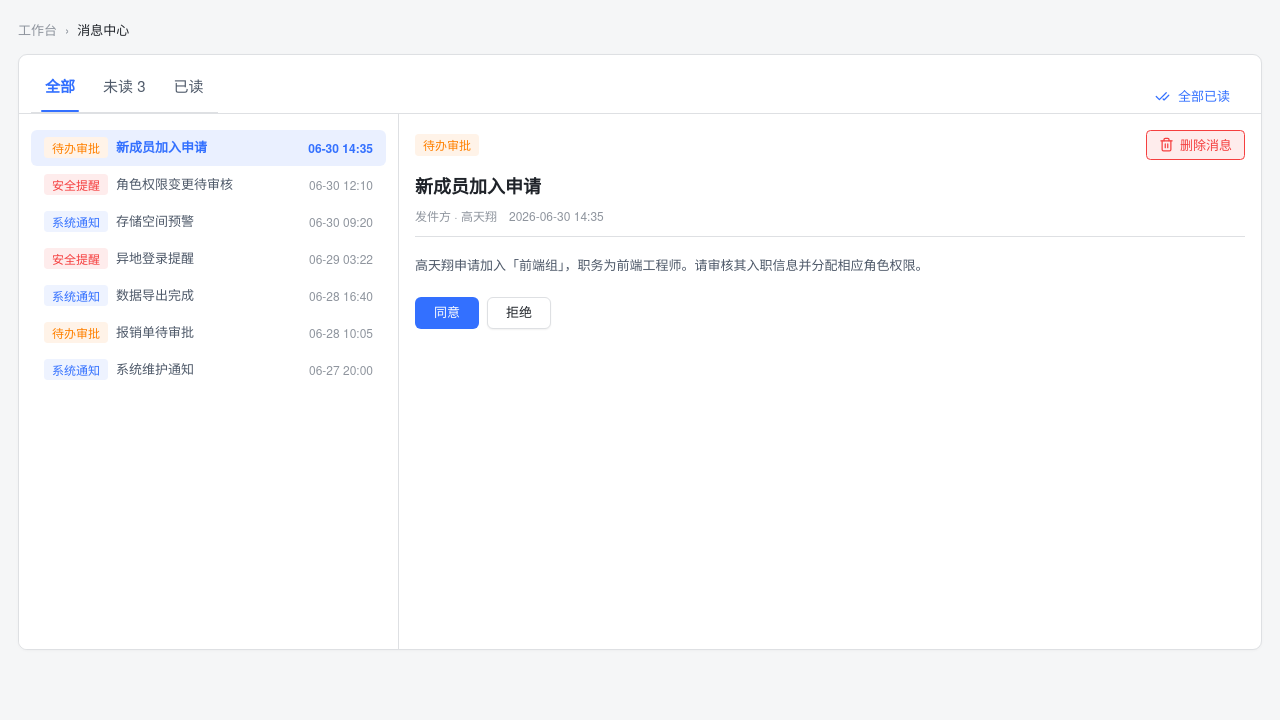
审批消息支持同意并展示已处理状态
Check: the text "高天翔申请加入「前端组」，职务为前端工程师。请审核其入职信息并分配相应角色权限。" is shown, box [415,254,928,274]
What coordinates should you click on to do the following:
click the button "同意"
I would click on:
 (447, 312)
Its box is [415,296,479,328].
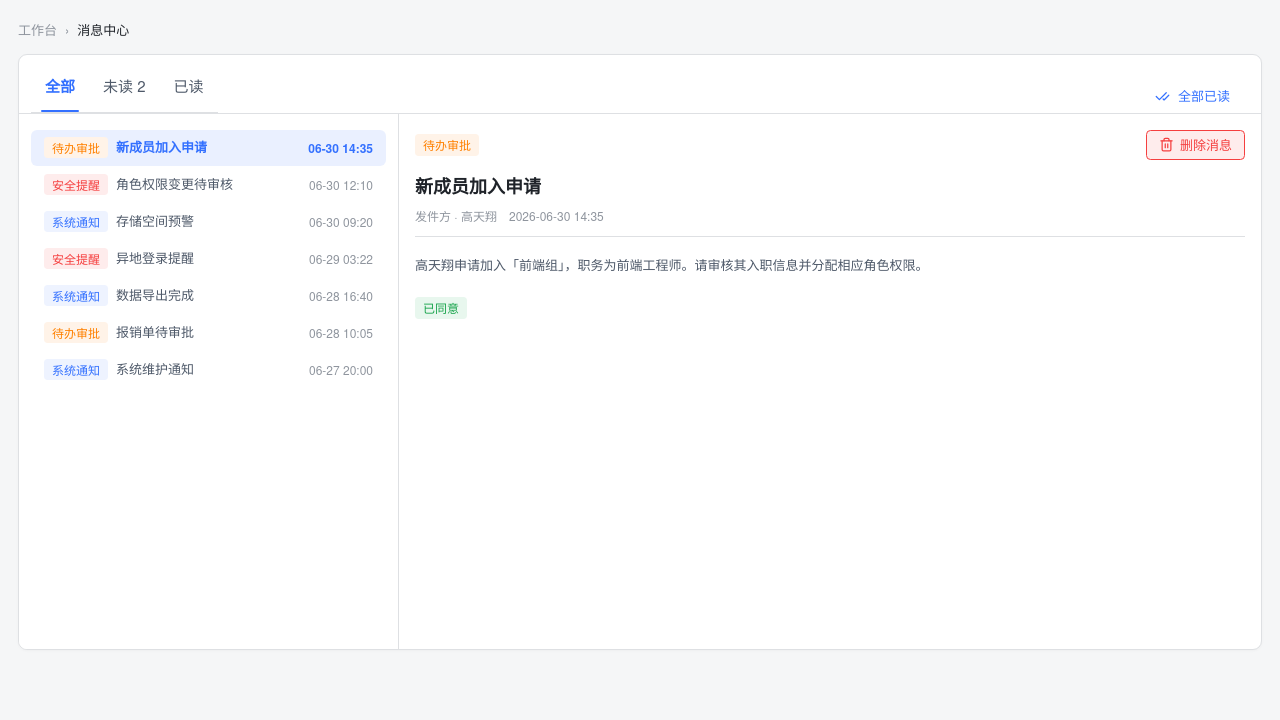
Check: the text "已同意" is shown, box [415,296,467,318]
Check: the button "拒绝" is gone
